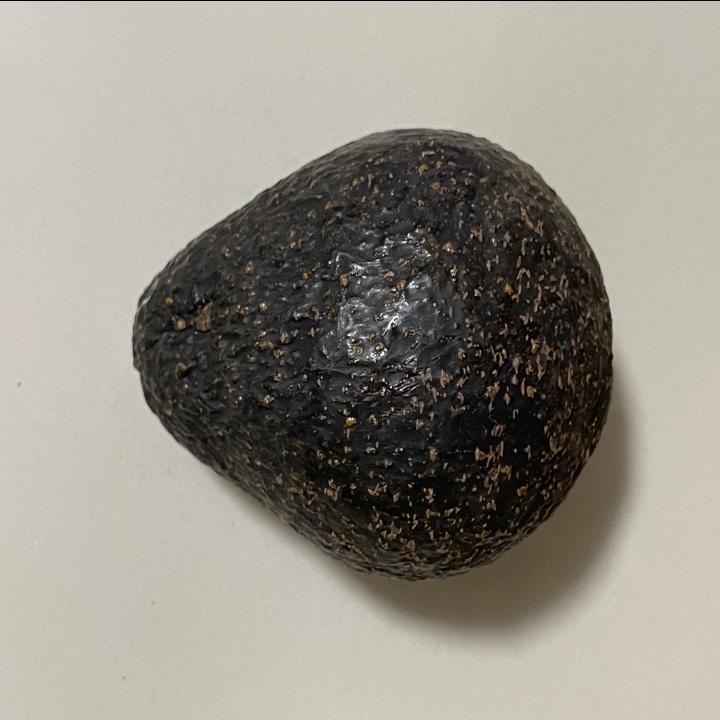Level3: (116, 114, 621, 590)
